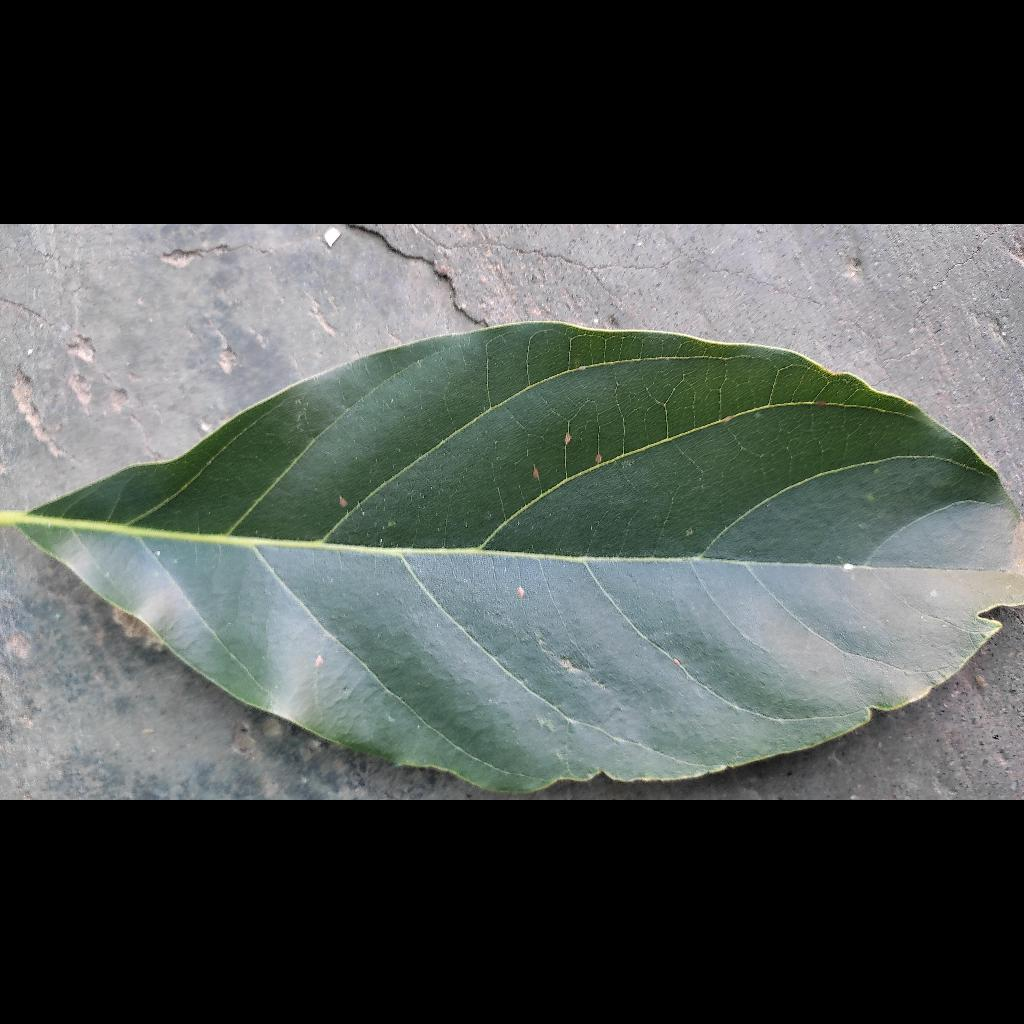Healthy: (0, 323, 1024, 791)
